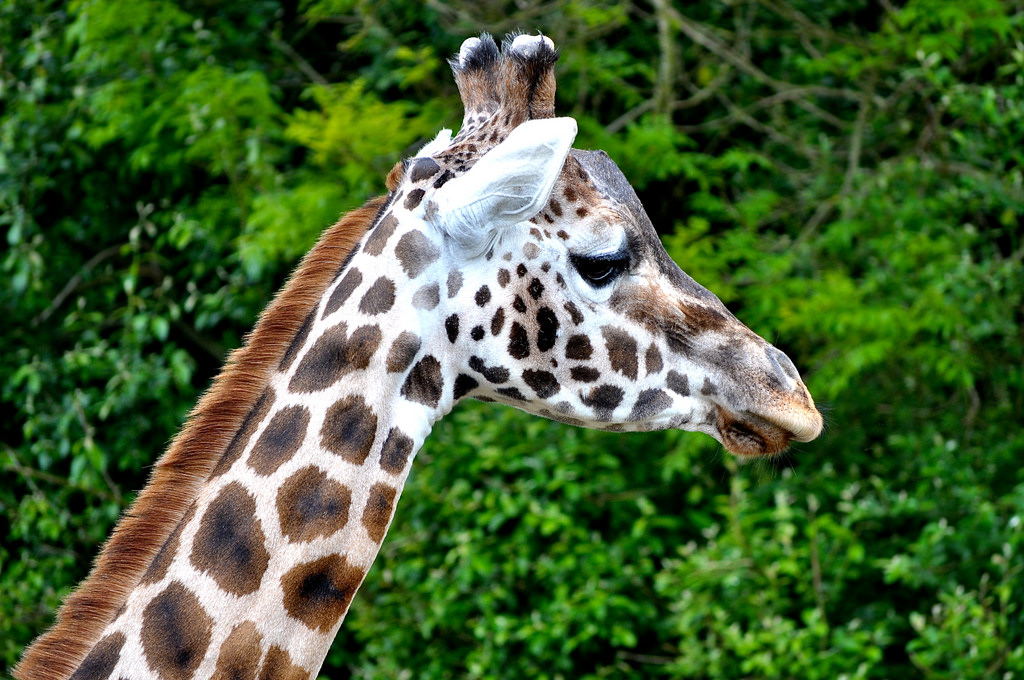giraffe: (107, 21, 871, 680)
